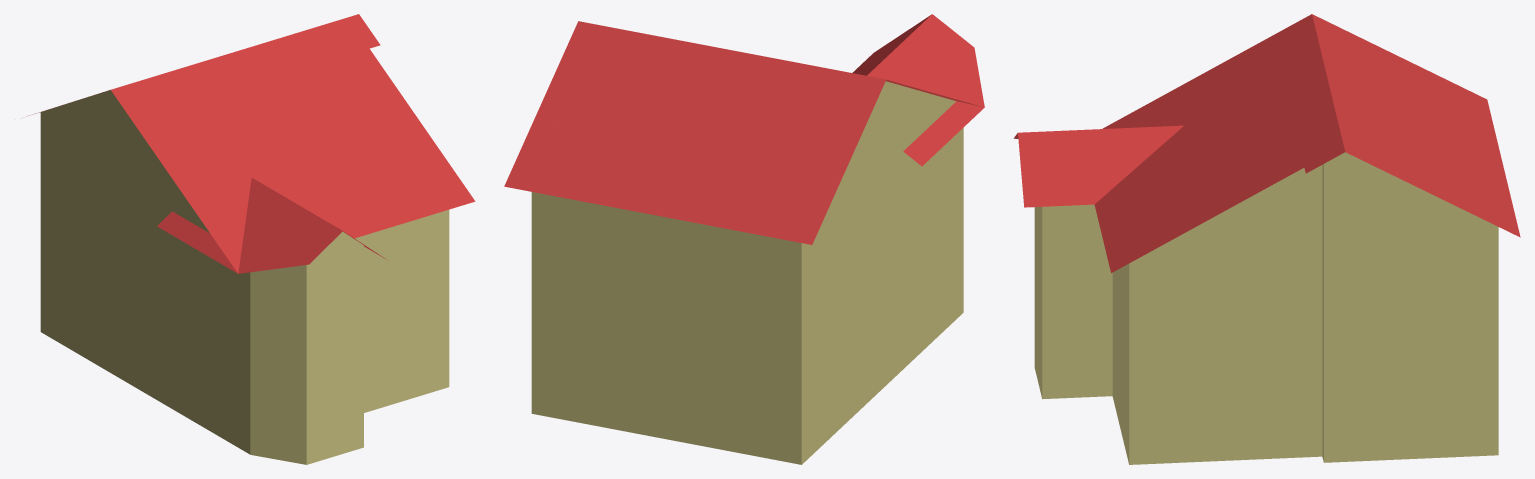
3 renders of one model, left to right at view 1: azimuth 30°, elevation 25°; view 2: azimuth 150°, elevation 25°; view 3: azimuth 270°, elevation 25°, orthographic. The views are drawn at different scales.
Size of the model in its own units: 13.15 by 18.85 by 13.05.
